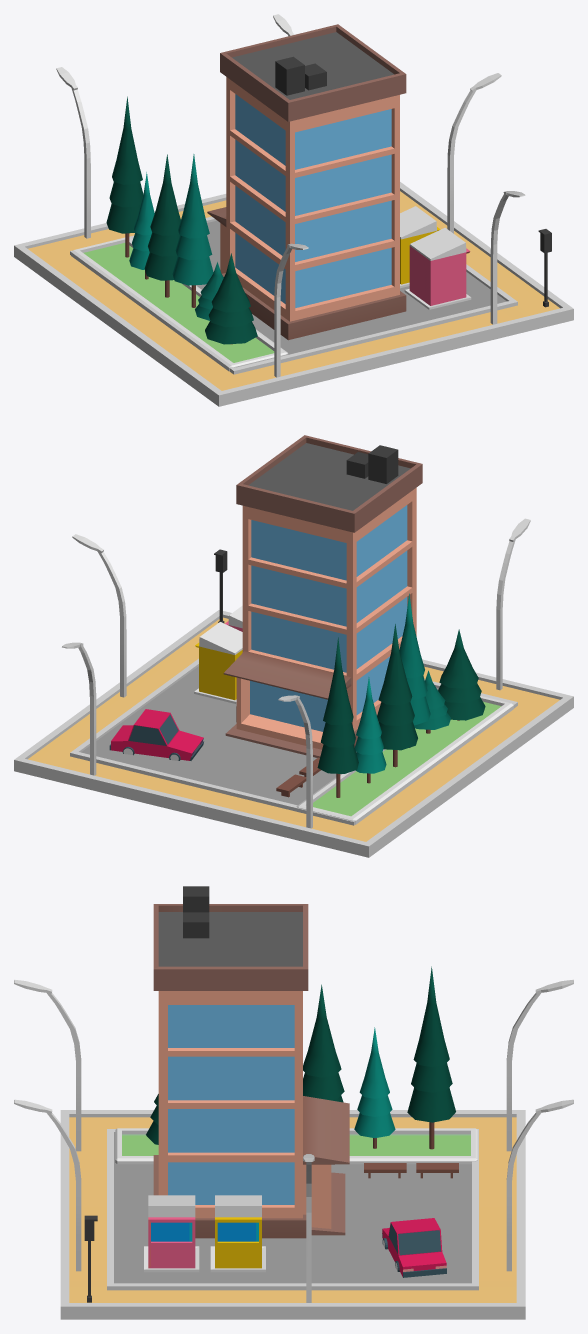
File: house2.fbx
3 views of the same model, one above another, from view 1: azimuth 30°, elevation 25°; view 2: azimuth 150°, elevation 25°; view 3: azimuth 270°, elevation 25° (orthographic). The views are drawn at different scales.
Parts seen in each view (by area): view 1: House_3; view 2: House_3; view 3: House_3.
Boxes of the visible parts, x1=… form: House_3: x1=14, y1=14, x2=573, y2=406; House_3: x1=14, y1=435, x2=573, y2=857; House_3: x1=14, y1=886, x2=573, y2=1319.
Size of the model in its own units: 766 by 506 by 838.
